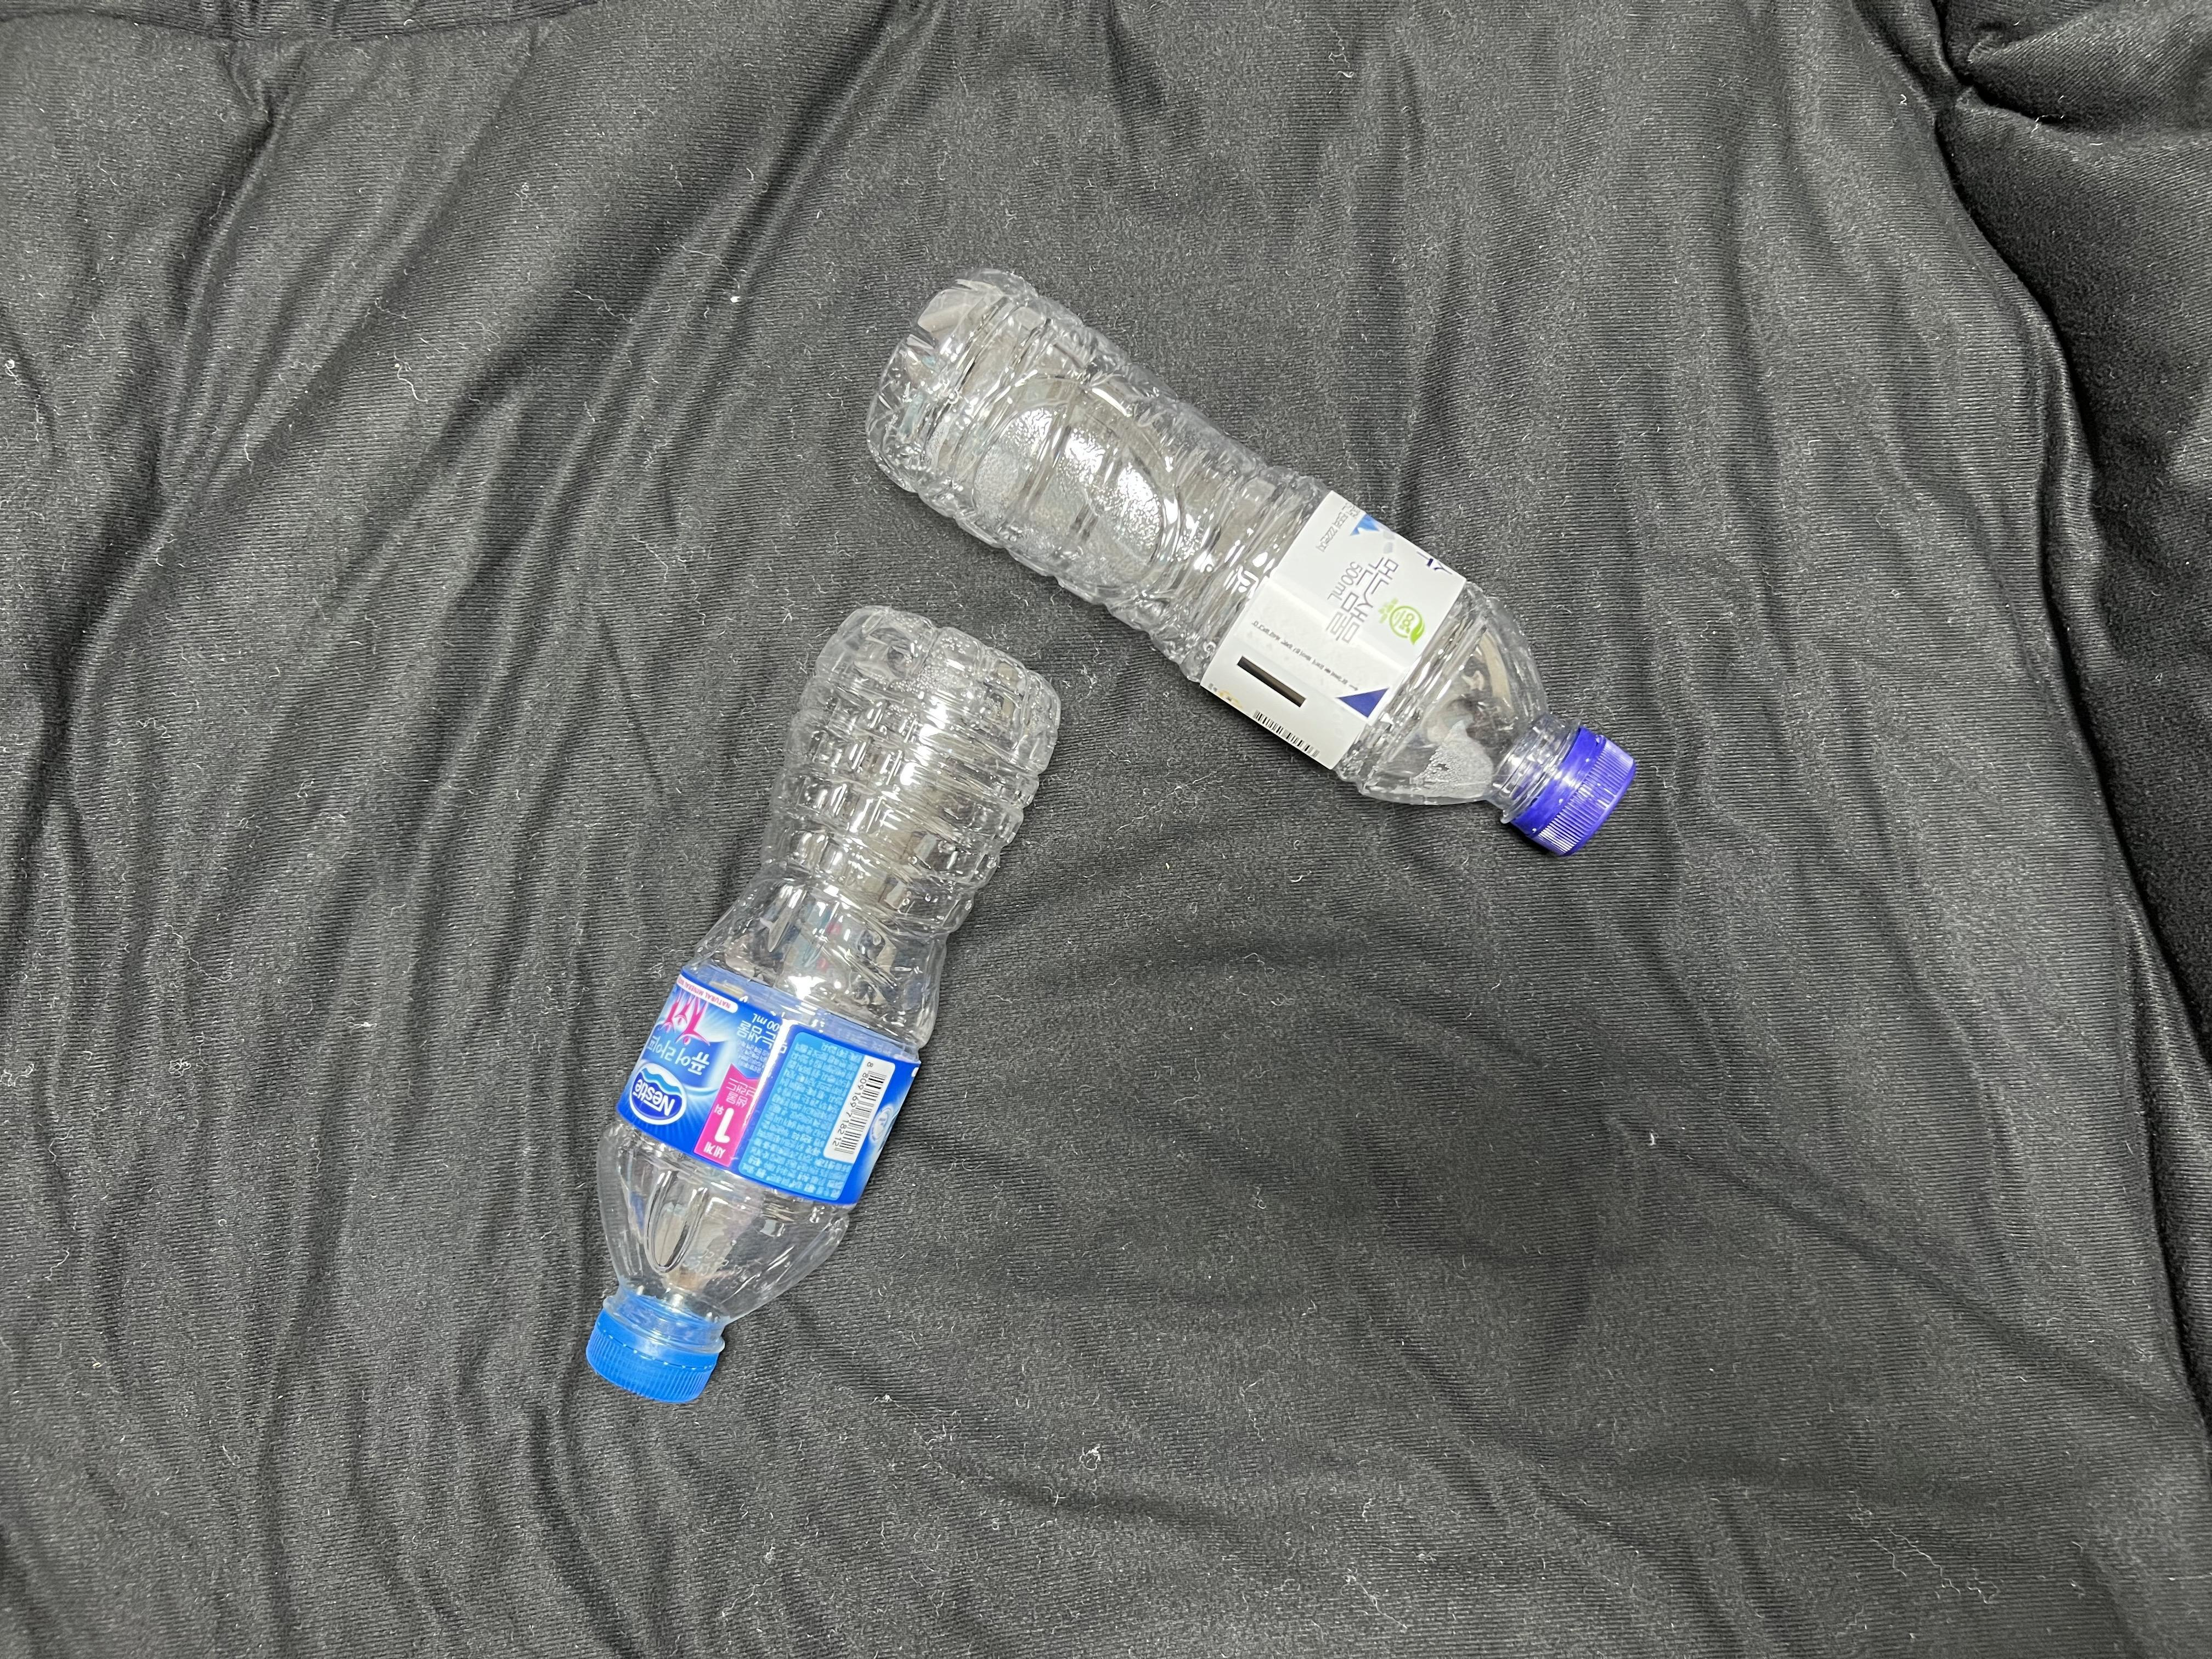BIODEGRADABLE: (807, 229, 1684, 934), (480, 569, 1118, 1460)
